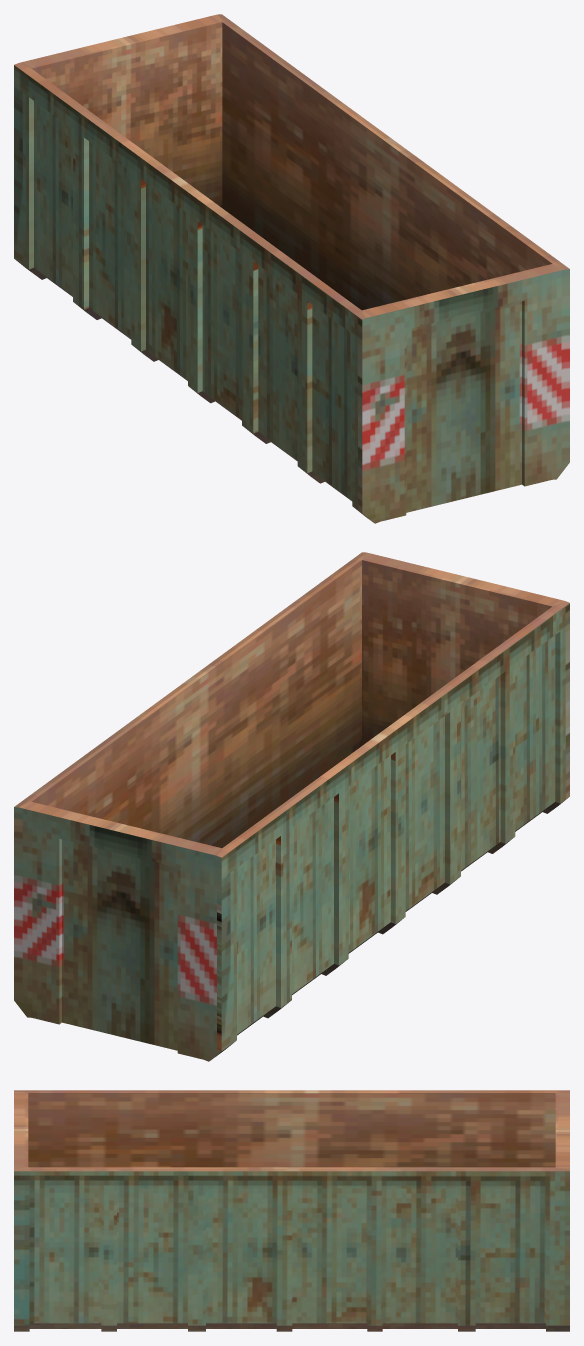
The model's file is greenDumpster.glb.
The picture shows the model from 3 angles, top to bottom: view 1: azimuth 30°, elevation 25°; view 2: azimuth 150°, elevation 25°; view 3: azimuth 270°, elevation 25°; orthographic projection. The views are drawn at different scales.
Visible parts, largest first — view 1: Cube; view 2: Cube; view 3: Cube.
Boxes of the visible parts, x1=… form: Cube: x1=14, y1=14, x2=569, y2=523; Cube: x1=14, y1=552, x2=569, y2=1061; Cube: x1=14, y1=1090, x2=569, y2=1331.
Bounding box in the file's own units: 2.1 × 2.01 × 6.09.
Materials: 1 (1 with a texture image).
